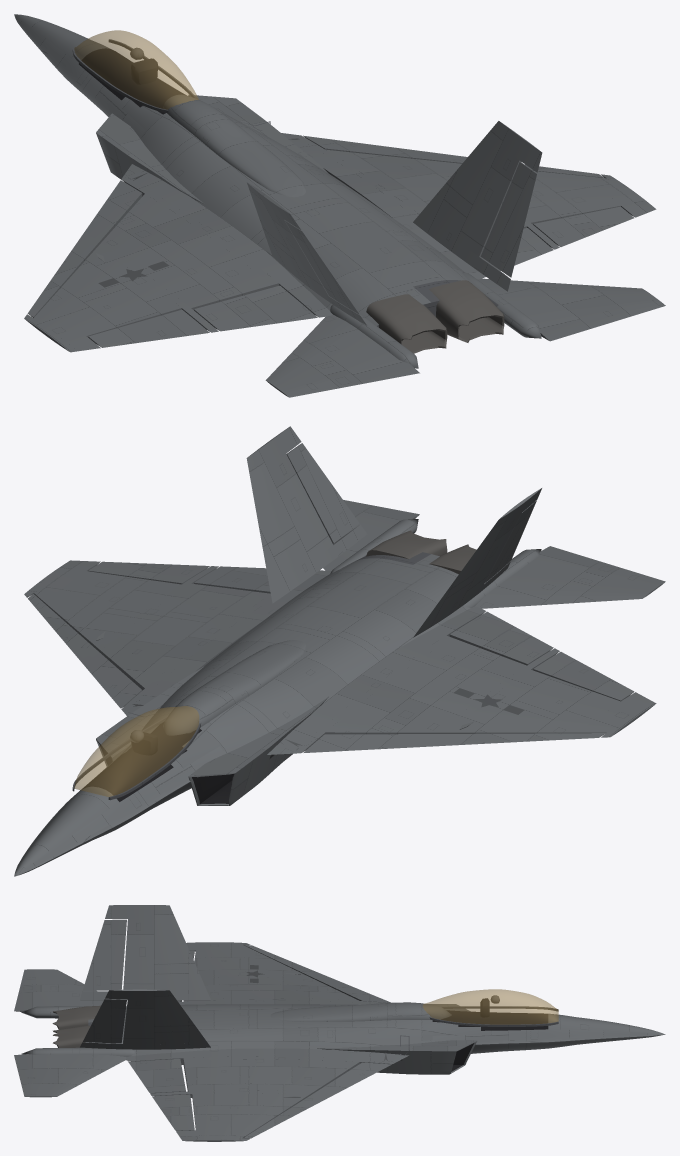
3 renders of one model, top to bottom at view 1: azimuth 30°, elevation 25°; view 2: azimuth 150°, elevation 25°; view 3: azimuth 270°, elevation 25°, orthographic. The views are drawn at different scales.
Parts seen in each view (by area): view 1: body, elevator_L, elevator_R, canopy, flap_L, rudder_R, flap_le_L, aileron_L, aileron_R, flap_le_R, rudder_L, flap_R; view 2: body, canopy, elevator_L, flap_le_L, rudder_R, flap_L, flap_le_R, aileron_L, elevator_R, aileron_R, flap_R, rudder_L; view 3: body, canopy, elevator_R, elevator_L, rudder_L, flap_le_R, flap_R, rudder_R, flap_le_L, aileron_R.
Boxes of the visible parts, left/top/right/bottom form: body: left=14, top=14, right=656, bottom=368; elevator_L: left=265, top=314, right=419, bottom=397; elevator_R: left=478, top=278, right=665, bottom=341; canopy: left=72, top=30, right=198, bottom=112; flap_L: left=194, top=285, right=317, bottom=331; rudder_R: left=481, top=162, right=536, bottom=277; flap_le_L: left=27, top=180, right=142, bottom=317; aileron_L: left=88, top=309, right=209, bottom=347; aileron_R: left=533, top=206, right=633, bottom=246; flap_le_R: left=303, top=135, right=604, bottom=177; rudder_L: left=285, top=220, right=359, bottom=314; flap_R: left=496, top=228, right=553, bottom=270; body: left=14, top=426, right=656, bottom=876; canopy: left=72, top=706, right=200, bottom=800; elevator_L: left=475, top=546, right=665, bottom=608; flap_le_L: left=303, top=733, right=604, bottom=752; rudder_R: left=286, top=443, right=359, bottom=543; flap_L: left=449, top=611, right=553, bottom=665; flap_le_R: left=28, top=594, right=142, bottom=708; aileron_L: left=533, top=652, right=634, bottom=701; elevator_R: left=323, top=500, right=419, bottom=571; aileron_R: left=88, top=561, right=209, bottom=584; flap_R: left=194, top=566, right=270, bottom=593; rudder_L: left=485, top=500, right=536, bottom=582; body: left=21, top=905, right=665, bottom=1141; canopy: left=422, top=989, right=558, bottom=1026; elevator_R: left=14, top=1054, right=126, bottom=1097; elevator_L: left=14, top=969, right=103, bottom=1011; rudder_L: left=82, top=919, right=126, bottom=990; flap_le_R: left=244, top=1062, right=391, bottom=1138; flap_R: left=128, top=1059, right=185, bottom=1093; rudder_R: left=83, top=999, right=126, bottom=1043; flap_le_L: left=244, top=945, right=391, bottom=1002; aileron_R: left=152, top=1094, right=194, bottom=1130.
Bounding box in the file's own units: 13.55 × 3.42 × 18.85.
7 materials, 2 textured.
